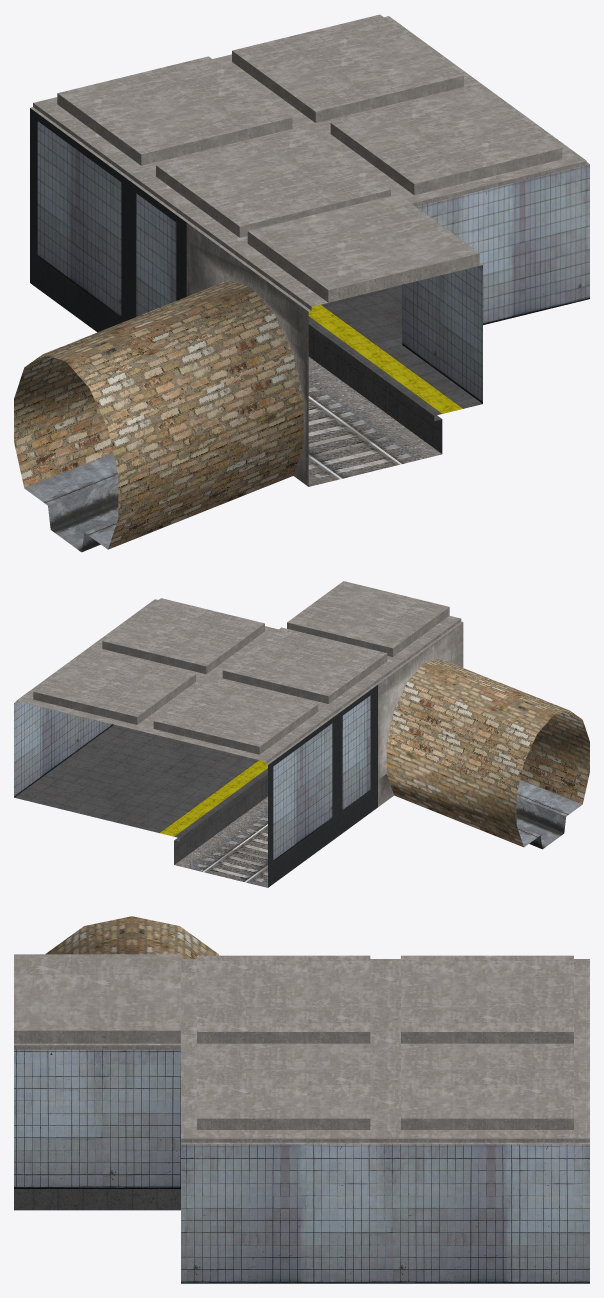
The model's file is sewer connection.glb.
3 renders of one model, top to bottom at view 1: azimuth 30°, elevation 25°; view 2: azimuth 150°, elevation 25°; view 3: azimuth 270°, elevation 25°, orthographic. The views are drawn at different scales.
Visible parts, largest first — view 1: St_04; view 2: St_04; view 3: St_04.
Boxes of the visible parts, x1,y1,x2,y2 form: St_04: (14,14,589,552); St_04: (14,581,589,887); St_04: (14,916,589,1283).
Size of the model in its own units: 20.01 by 8.47 by 17.64.
Materials: 8 (8 with a texture image).
